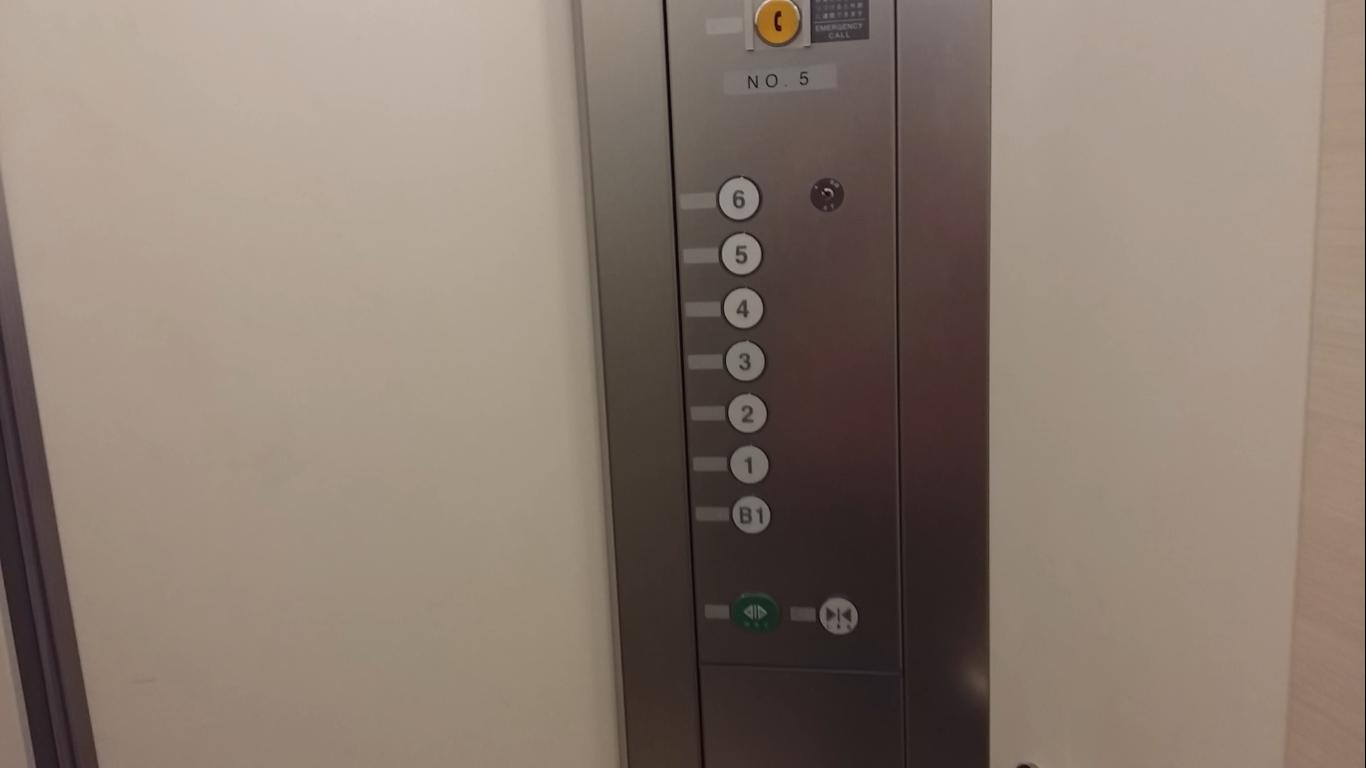1: (729, 441, 772, 487)
2: (726, 389, 771, 434)
3: (723, 339, 768, 383)
4: (721, 284, 766, 334)
5: (717, 230, 766, 278)
6: (715, 173, 763, 223)
B1: (729, 493, 773, 536)
call: (755, 1, 801, 46)
close: (818, 596, 862, 637)
open: (733, 592, 780, 635)
